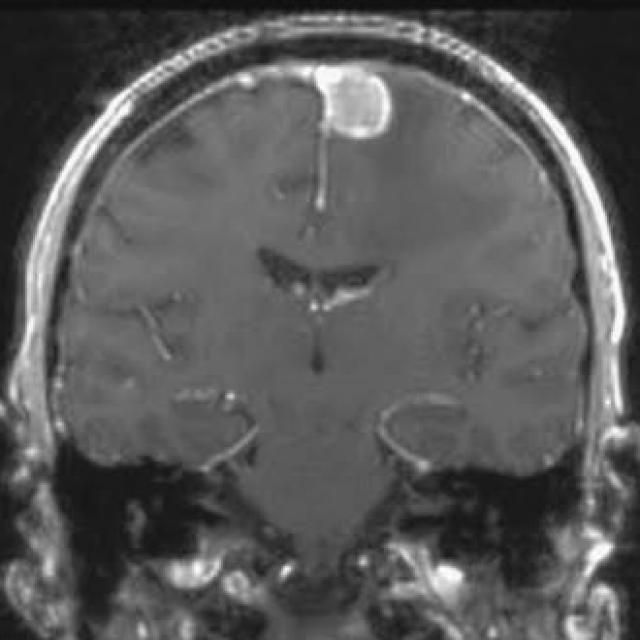brain_tumor: (315, 66, 389, 139)
